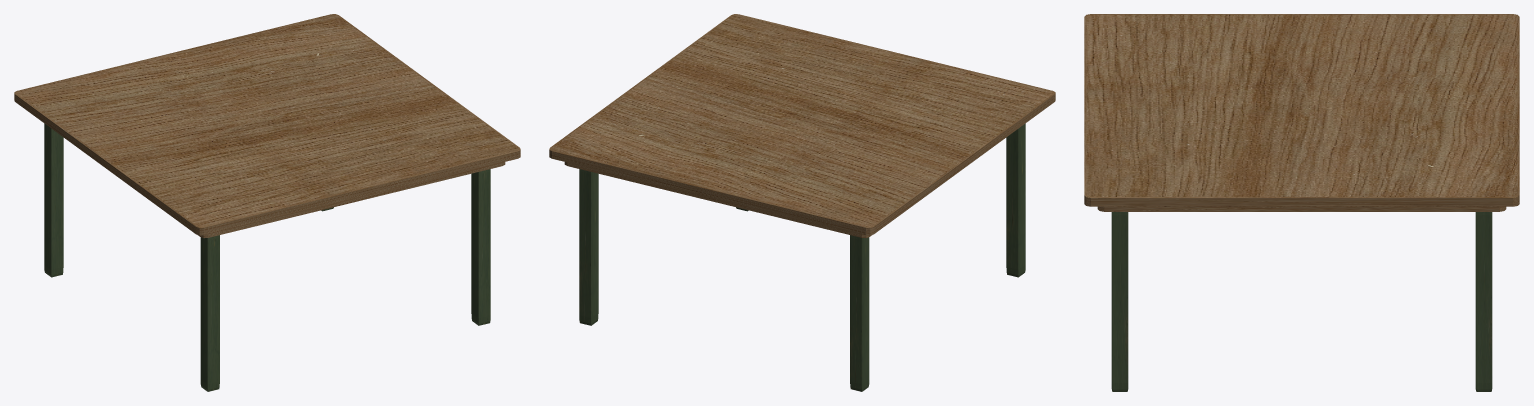
Rendered from stol.fbx.
3 views of the same model, side by side, from view 1: azimuth 30°, elevation 25°; view 2: azimuth 150°, elevation 25°; view 3: azimuth 270°, elevation 25° (orthographic). The views are drawn at different scales.
Visible parts, largest first — view 1: Cube.001; view 2: Cube.001; view 3: Cube.001.
Part boxes in pixels (bbox=[...]): Cube.001: bbox=[14, 14, 520, 391]; Cube.001: bbox=[549, 14, 1055, 391]; Cube.001: bbox=[1084, 14, 1519, 391].
Bounding box in the file's own units: 180 × 93.97 × 180.
